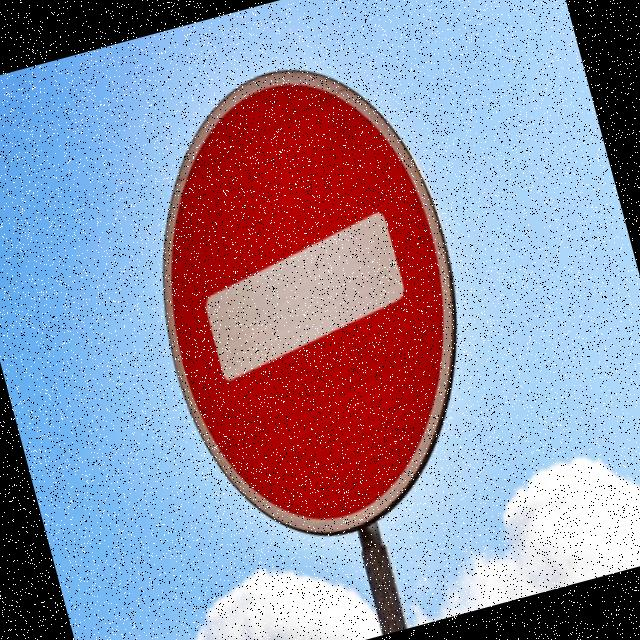do_not_enter: (95, 25, 516, 578)
